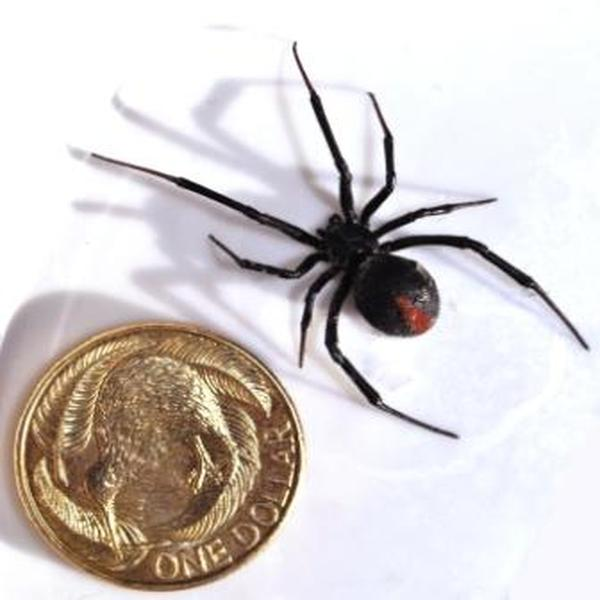Redback Spider: (89, 40, 588, 437)
